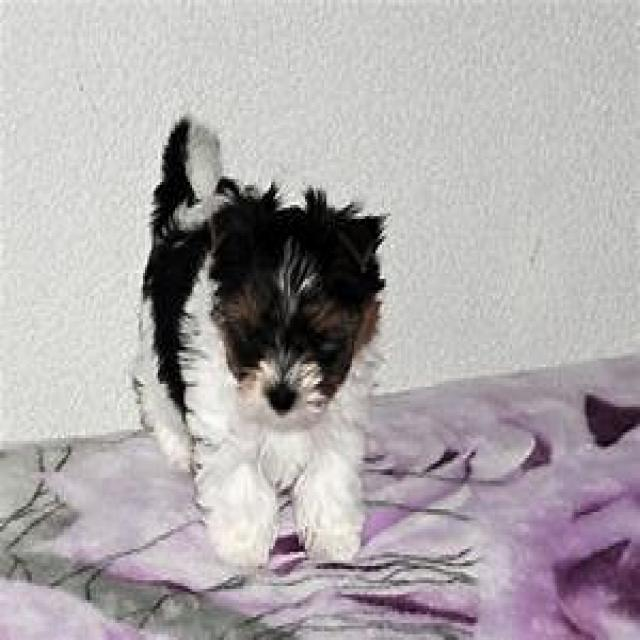KOPEK: (130, 106, 398, 560)
